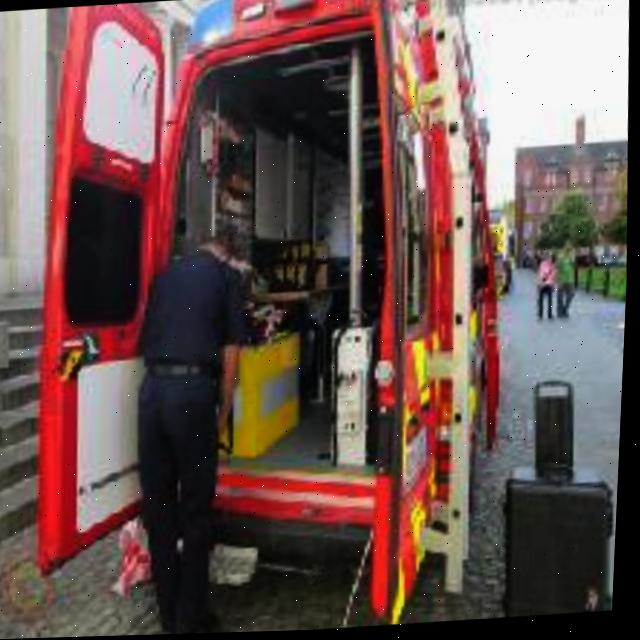emergency: (28, 0, 524, 639)
